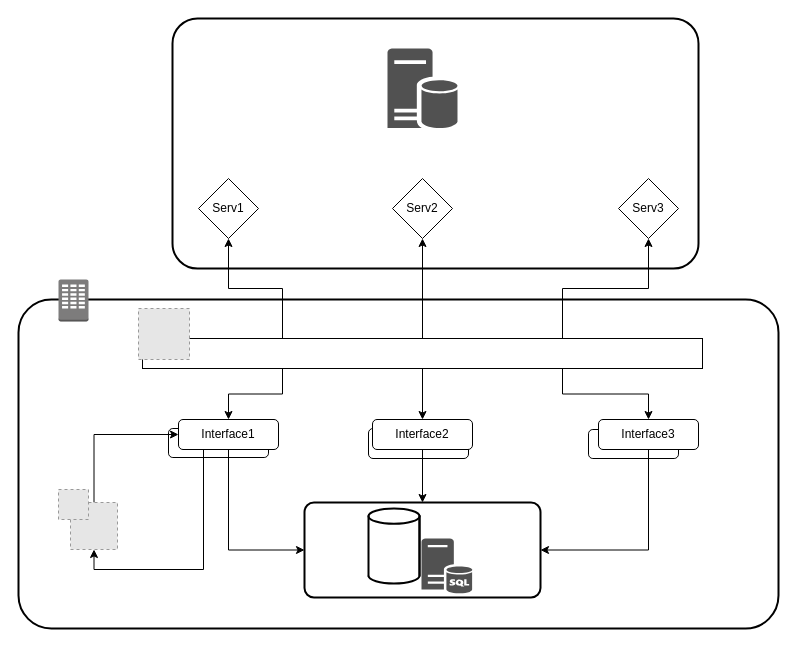
Some shapes in this 796 by 646 pixel diagram are drawn without their labels. Grey dashed boxes stand in for pictures. The shapes that lost their labels are listed below. From the top down, each one's box as (x1, y1, x2, y2) in pixels, then its label:
(387, 48, 457, 128): ALTICEL
(142, 338, 702, 368): Controller
(367, 507, 420, 584): ERP
